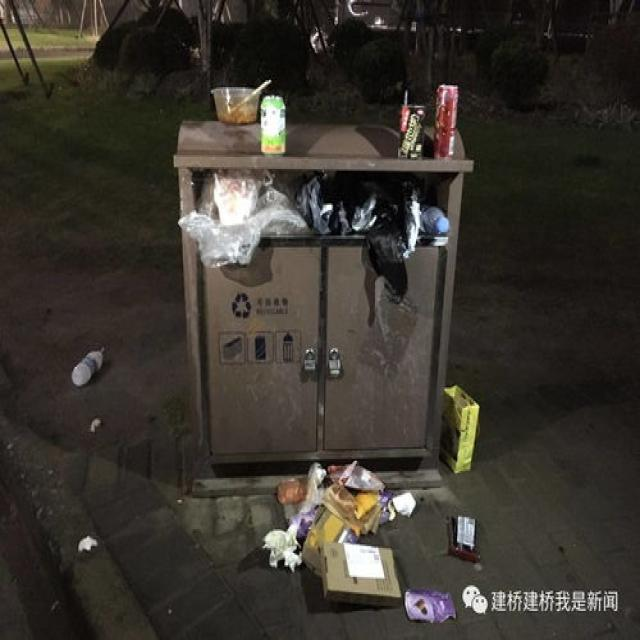garbage: (261, 382, 479, 623)
overflow: (172, 79, 471, 496)
